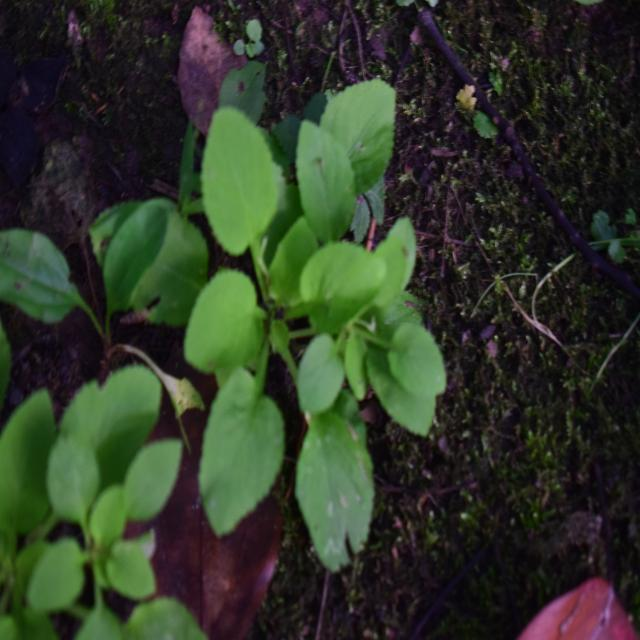Viola: (160, 74, 468, 566)
